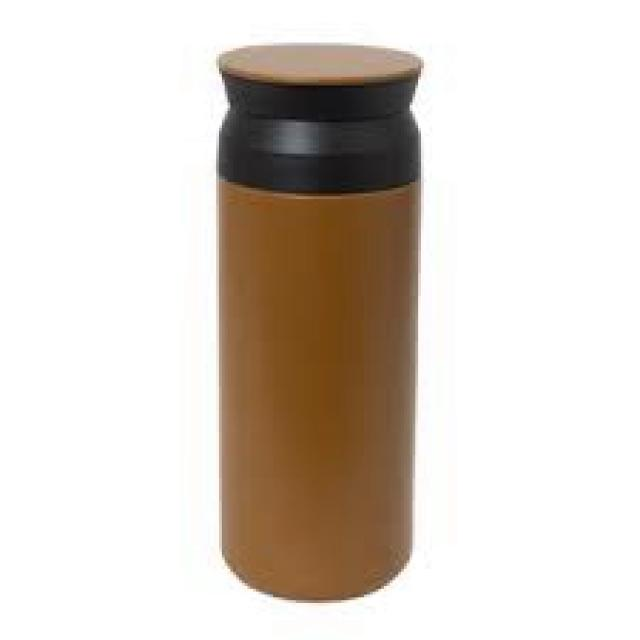bottle: (217, 45, 424, 598)
